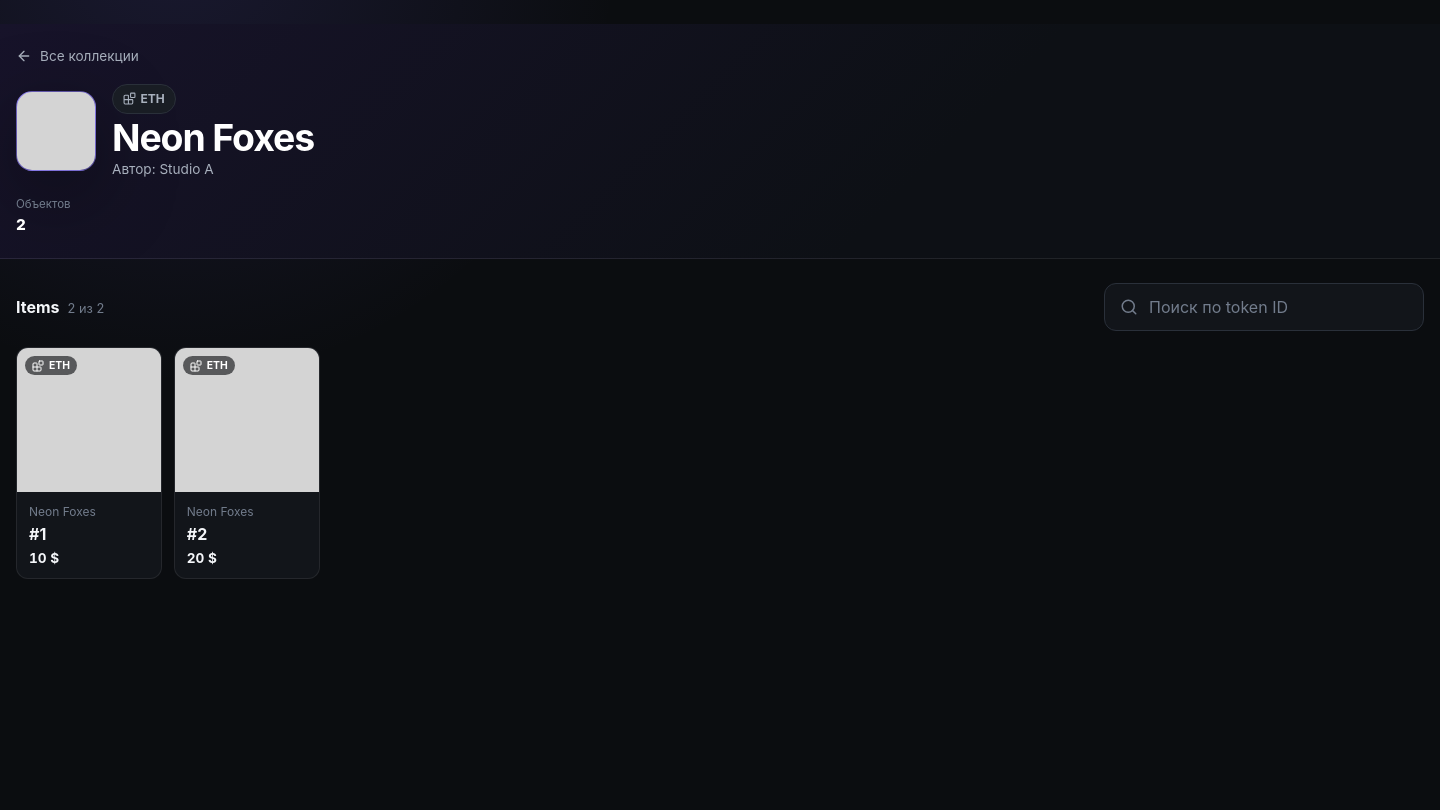
Test: CollectionPage › filters the grid by token ID search and shows a zero-results state
The image size is (1440, 810).
Expected: the heading "Neon Foxes" is shown, [112,118,314,157]
Type "999" into the field with placeholder "Поиск по token ID" at (1264, 307), box [1104,283,1424,331]
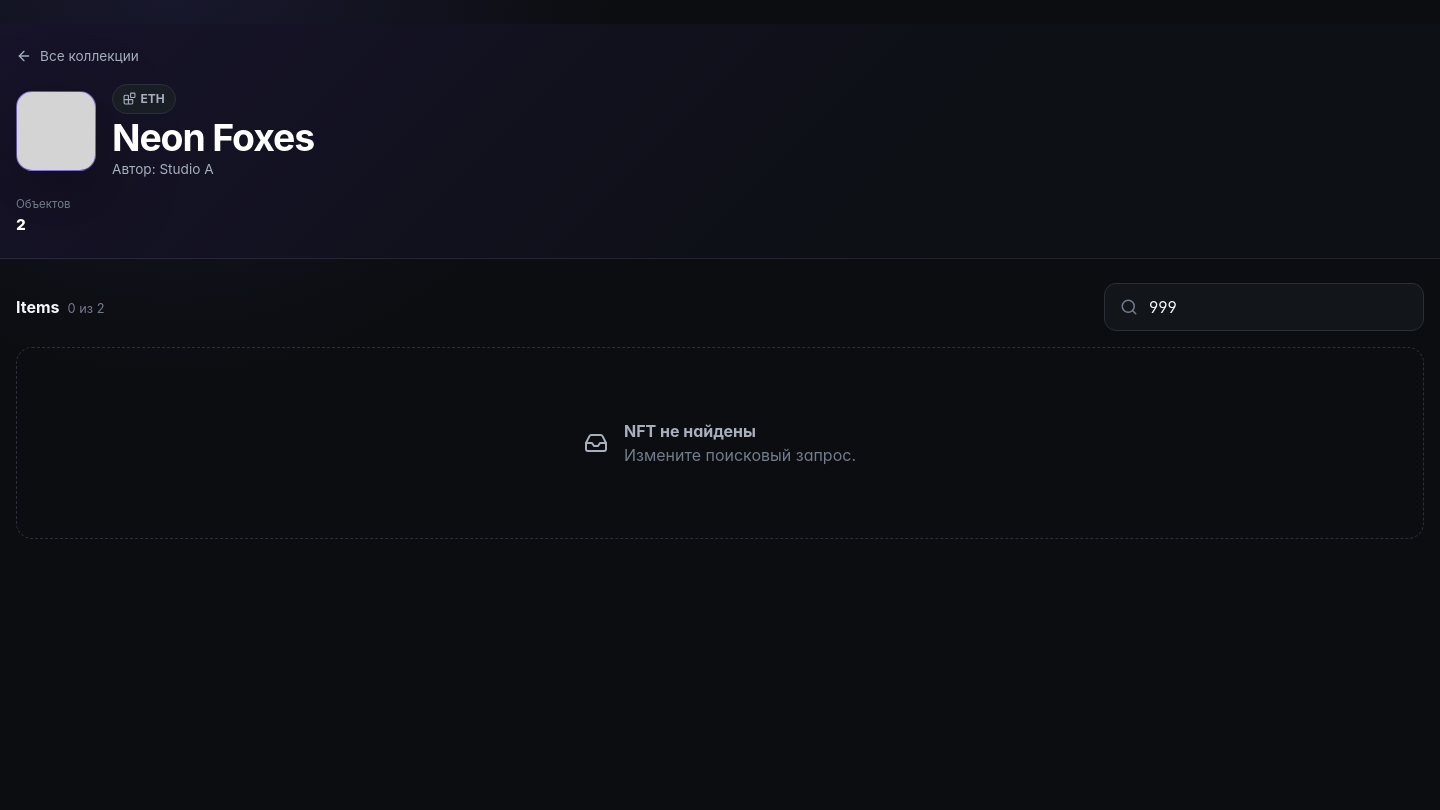
Expected: the text "Измените поисковый запрос." is shown, [624,445,856,465]
Expected: the link "#1" is gone
